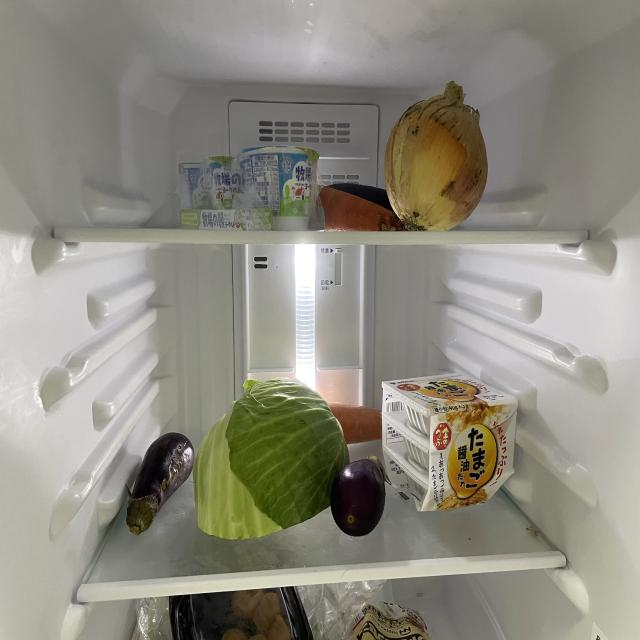cabbage: (198, 378, 345, 542)
carrot: (318, 187, 405, 232), (323, 401, 390, 447)
eggplant: (129, 426, 191, 534), (331, 454, 386, 538), (332, 187, 401, 213)
onion: (385, 80, 489, 237)
